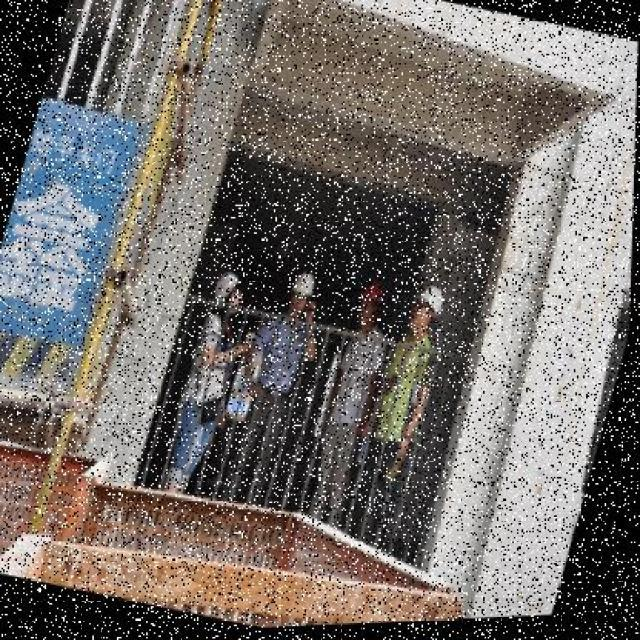helmet: (414, 282, 448, 320), (291, 268, 323, 304), (211, 269, 241, 299), (365, 280, 387, 308)
